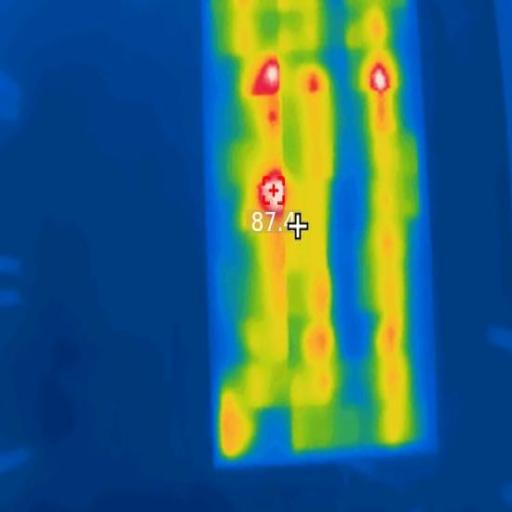hotspot: (256, 173, 288, 215), (253, 60, 282, 100), (372, 68, 392, 97), (304, 75, 323, 93)
